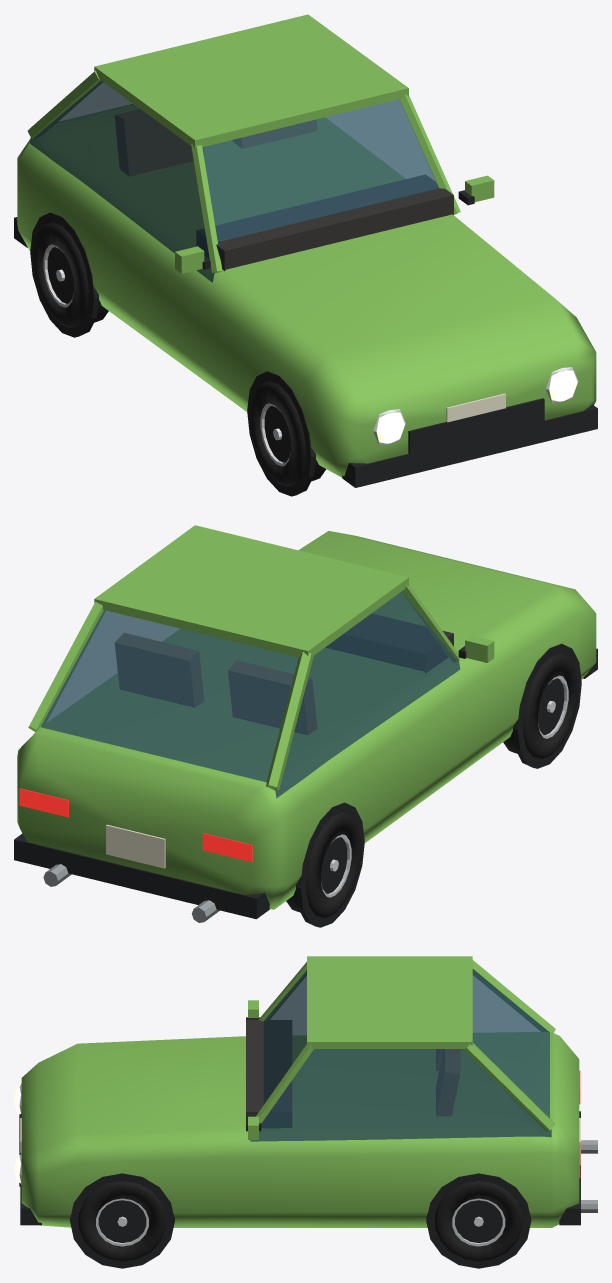
File: clover-compact.glb
3 renders of one model, top to bottom at view 1: azimuth 30°, elevation 25°; view 2: azimuth 150°, elevation 25°; view 3: azimuth 270°, elevation 25°, orthographic. The views are drawn at different scales.
Visible parts, largest first — view 1: body, wheel_RR, wheel_FR, plate_F, headlight_L, headlight_R; view 2: body, wheel_FR, wheel_RR, plate_R, taillight_R, taillight_L; view 3: body, wheel_FL, wheel_RL.
Part boxes in pixels (x1=…): body: x1=14, y1=14, x2=597, y2=496; wheel_RR: x1=33, y1=222, x2=108, y2=327; wheel_FR: x1=250, y1=381, x2=325, y2=486; plate_F: x1=446, y1=393, x2=505, y2=422; headlight_L: x1=545, y1=367, x2=578, y2=402; headlight_R: x1=373, y1=409, x2=405, y2=444; body: x1=14, y1=525, x2=597, y2=927; wheel_FR: x1=503, y1=653, x2=578, y2=759; wheel_RR: x1=286, y1=812, x2=361, y2=918; plate_R: x1=106, y1=824, x2=165, y2=868; taillight_R: x1=202, y1=833, x2=252, y2=862; taillight_L: x1=19, y1=788, x2=68, y2=817; body: x1=19, y1=956, x2=580, y2=1268; wheel_FL: x1=78, y1=1181, x2=166, y2=1261; wheel_RL: x1=435, y1=1181, x2=522, y2=1261.
Bounding box in the file's own units: 1.91 × 1.53 × 3.77.
